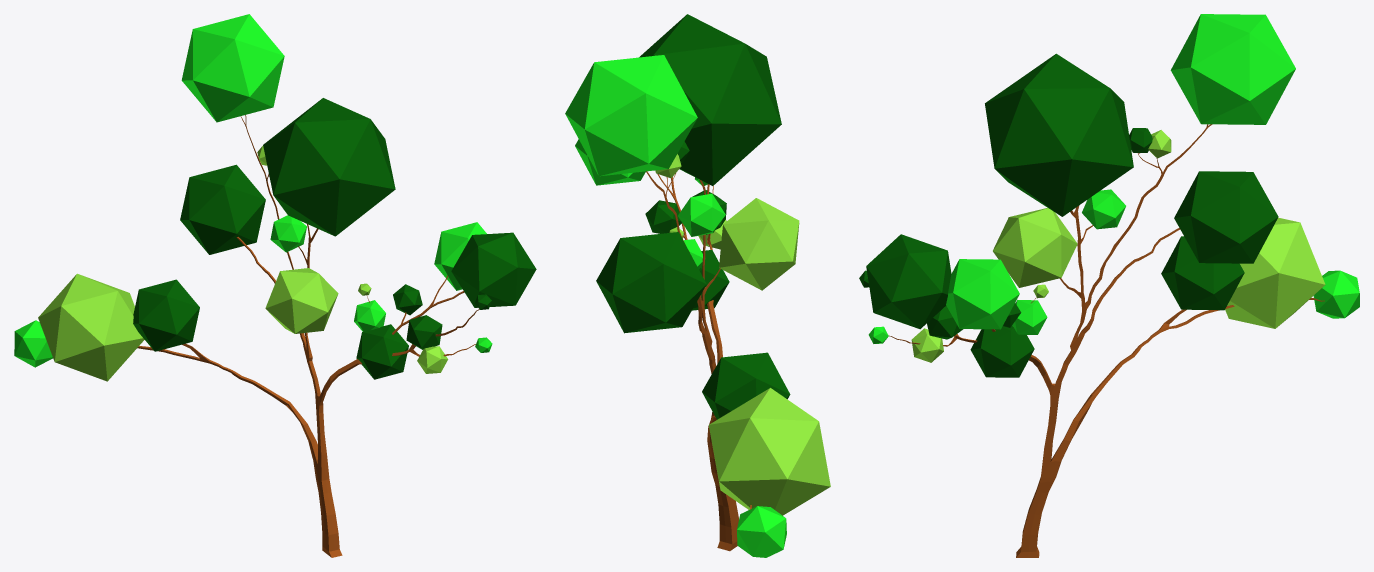
Rendered from arvore_cerrado_002.obj.
3 renders of one model, left to right at view 1: azimuth 30°, elevation 25°; view 2: azimuth 150°, elevation 25°; view 3: azimuth 270°, elevation 25°, orthographic. The views are drawn at different scales.
Visible parts, largest first — view 1: arvore_cerrado_2_Plane; view 2: arvore_cerrado_2_Plane; view 3: arvore_cerrado_2_Plane.
Boxes of the visible parts, x1=… form: arvore_cerrado_2_Plane: x1=14, y1=14, x2=536, y2=557; arvore_cerrado_2_Plane: x1=565, y1=14, x2=830, y2=557; arvore_cerrado_2_Plane: x1=859, y1=14, x2=1359, y2=557.
Size of the model in its own units: 3.67 by 5 by 4.28.
